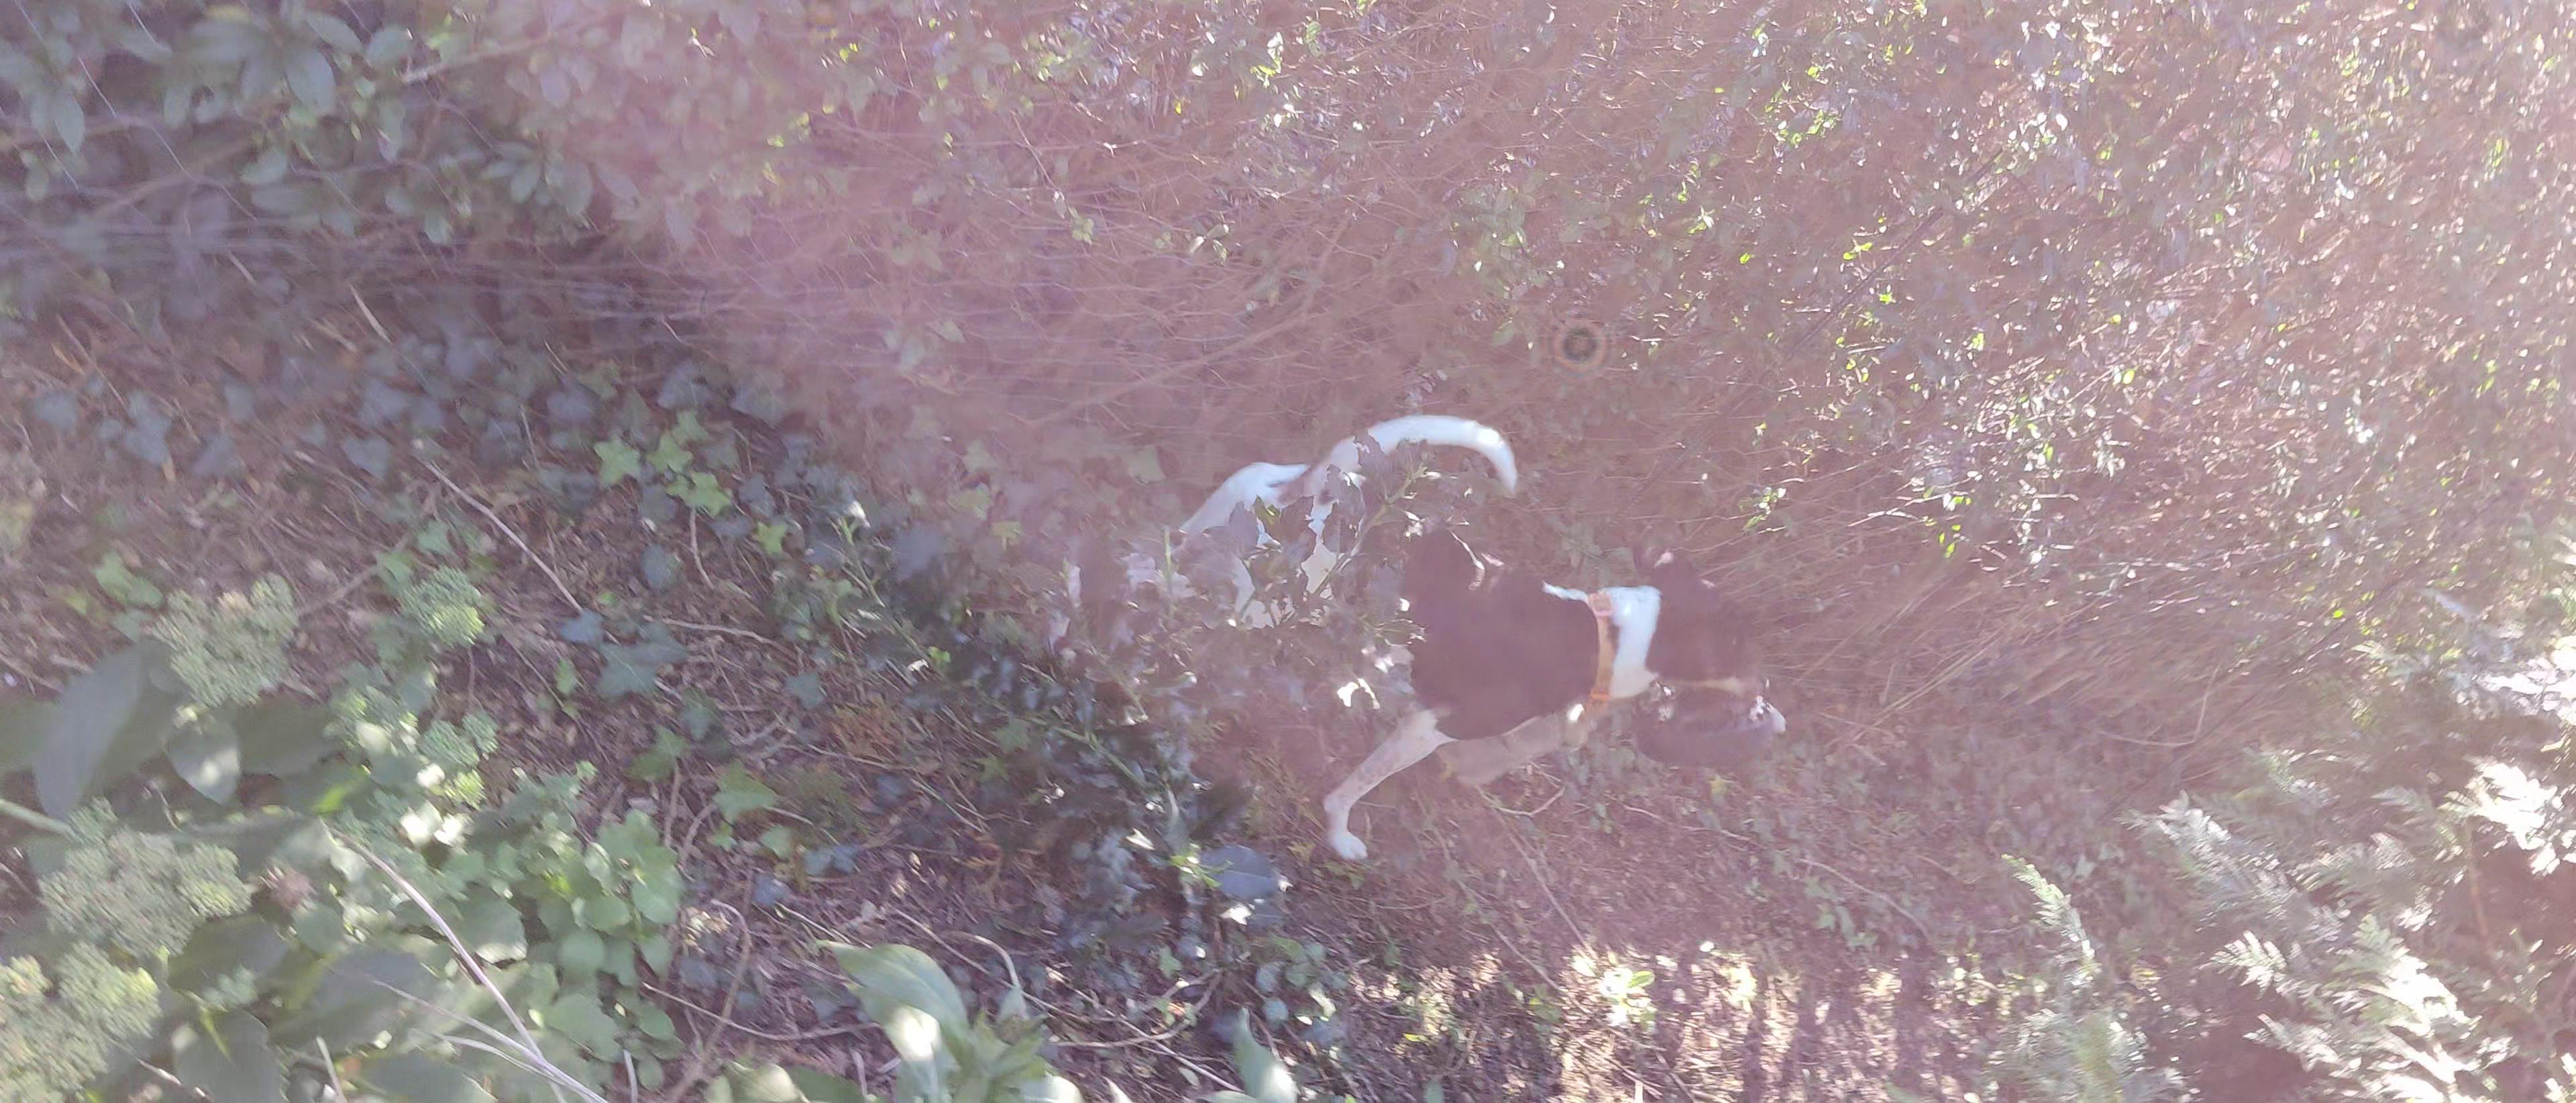Dog: (1099, 406, 1776, 868)
